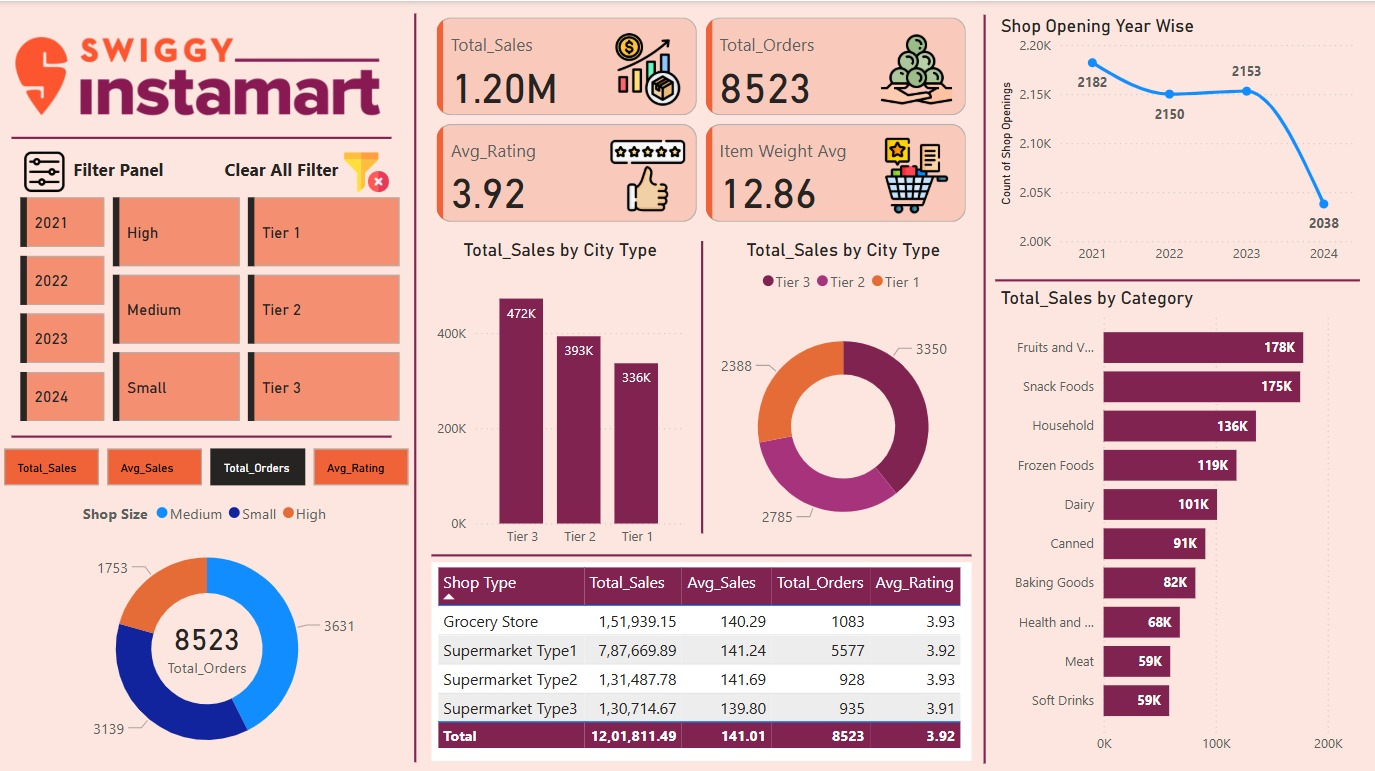

The page's visual inventory and layout, read from the dashboard file:
{"tool":"powerbi","page":{"name":"Dashboard","canvas":[1280,720],"ordinal":0},"visuals":[{"type":"cardVisual","fields":{"Data":["Grocery Shop.Total_Sales","Grocery Shop.Total_Orders","Grocery Shop.Avg_Rating","Grocery Shop.Item Weight Avg"]},"box":[402.3,10.5,502.3,201.2],"z":0},{"type":"clusteredColumnChart","title":"Total_Sales by City Type","fields":{"Y":["Grocery Shop.Total_Sales"],"Category":["Grocery Shop.Shop City Type"]},"box":[402.3,220.9,239.5,295.3],"z":1000},{"type":"donutChart","title":"Total_Sales by City Type","fields":{"Category":["Grocery Shop.Shop City Type"],"Y":["Grocery Shop.Total_Orders"]},"box":[653.5,220.9,264,301.2],"z":2000},{"type":"tableEx","fields":{"Values":["Grocery Shop.Shop Type","Grocery Shop.Total_Sales","Grocery Shop.Avg_Sales","Grocery Shop.Total_Orders","Grocery Shop.Avg_Rating"]},"box":[402.3,522.1,502.3,184.9],"z":3000},{"type":"shape","box":[907,12.8,19.8,696.5],"z":4000},{"type":"shape","box":[372.1,11.6,30.2,696.5],"z":5000},{"type":"shape","box":[402.3,509.3,502.3,12.8],"z":6000},{"type":"donutChart","title":"Shop Size","fields":{"Y":["Grocery Shop.Total_Orders"],"Category":["Grocery Shop.Shop Size"]},"box":[0,455.8,387.2,264],"z":7000},{"type":"advancedSlicerVisual","fields":{"Values":["Metrics.Metrics"]},"box":[0,411.6,387.2,44.2],"z":8000},{"type":"cardVisual","fields":{"Data":["Grocery Shop.Total_Orders"]},"box":[120.9,545.4,145.3,116.3],"z":9000},{"type":"shape","box":[651.2,223.3,5.8,272.1],"z":10000},{"type":"clusteredBarChart","fields":{"Category":["Grocery Shop.Category"],"Y":["Grocery Shop.Total_Sales"]},"box":[926.7,266.3,353.5,443],"z":11000},{"type":"shape","box":[926.7,253.5,339.5,12.8],"z":12000},{"type":"lineChart","title":"Shop Opening Year Wise","fields":{"Category":["Grocery Shop.Shop Opening Year"],"Y":["CountNonNull(Grocery Shop.Shop Opening Year)"]},"box":[926.7,12.8,339.5,240.7],"z":13000},{"type":"image","box":[0,11.6,377.9,122.1],"z":14000},{"type":"shape","box":[11.6,120.9,353.5,12.8],"z":17000},{"type":"shape","box":[11.6,398.8,353.5,12.8],"z":18000},{"type":"advancedSlicerVisual","fields":{"Values":["Grocery Shop.Shop Opening Year"]},"box":[15.1,177.9,88.4,220.9],"z":19000},{"type":"advancedSlicerVisual","fields":{"Values":["Grocery Shop.Shop Size"]},"box":[101.2,177.9,128,220.9],"z":20000},{"type":"advancedSlicerVisual","fields":{"Values":["Grocery Shop.Shop City Type"]},"box":[226.7,177.9,151.2,220.9],"z":21000},{"type":"image","box":[18.6,133.7,47.7,50],"z":22000},{"type":"image","box":[316.3,133.7,51.2,51.2],"z":23000},{"type":"textbox","box":[40.7,140.7,140.7,48.8],"z":24000},{"type":"textbox","box":[188.4,140.7,148.8,47.7],"z":25000}]}

Visuals, with their boxes in screenshot pixels (x1, y1, x2, y2), scaled from the page's 1280x720 canvas onto the 1375x771 screenshot:
cardVisual - Grocery Shop.Total_Sales x Grocery Shop.Total_Orders: [left=432, top=11, right=972, bottom=227]
"Total_Sales by City Type" clusteredColumnChart: [left=432, top=237, right=689, bottom=553]
"Total_Sales by City Type" donutChart: [left=702, top=237, right=986, bottom=559]
tableEx - Grocery Shop.Shop Type x Grocery Shop.Total_Sales: [left=432, top=559, right=972, bottom=757]
shape: [left=974, top=14, right=996, bottom=760]
shape: [left=400, top=12, right=432, bottom=758]
shape: [left=432, top=545, right=972, bottom=559]
"Shop Size" donutChart: [left=0, top=488, right=416, bottom=770]
advancedSlicerVisual - Metrics.Metrics: [left=0, top=441, right=416, bottom=488]
cardVisual - Grocery Shop.Total_Orders: [left=130, top=584, right=286, bottom=709]
shape: [left=700, top=239, right=706, bottom=530]
clusteredBarChart - Grocery Shop.Category x Grocery Shop.Total_Sales: [left=995, top=285, right=1374, bottom=760]
shape: [left=995, top=271, right=1360, bottom=285]
"Shop Opening Year Wise" lineChart: [left=995, top=14, right=1360, bottom=271]
image: [left=0, top=12, right=406, bottom=143]
shape: [left=12, top=129, right=392, bottom=143]
shape: [left=12, top=427, right=392, bottom=441]
advancedSlicerVisual - Grocery Shop.Shop Opening Year: [left=16, top=191, right=111, bottom=427]
advancedSlicerVisual - Grocery Shop.Shop Size: [left=109, top=191, right=246, bottom=427]
advancedSlicerVisual - Grocery Shop.Shop City Type: [left=244, top=191, right=406, bottom=427]
image: [left=20, top=143, right=71, bottom=197]
image: [left=340, top=143, right=395, bottom=198]
textbox: [left=44, top=151, right=195, bottom=203]
textbox: [left=202, top=151, right=362, bottom=202]
